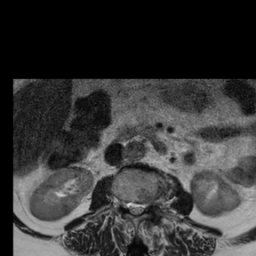CCS_stenosis: (131, 196, 139, 222)
LFS_stenosis: (146, 195, 152, 211)
LLS_normal: (139, 198, 145, 217)
RFS_normal: (118, 195, 126, 212)
RLS_stenosis: (126, 197, 132, 215)
